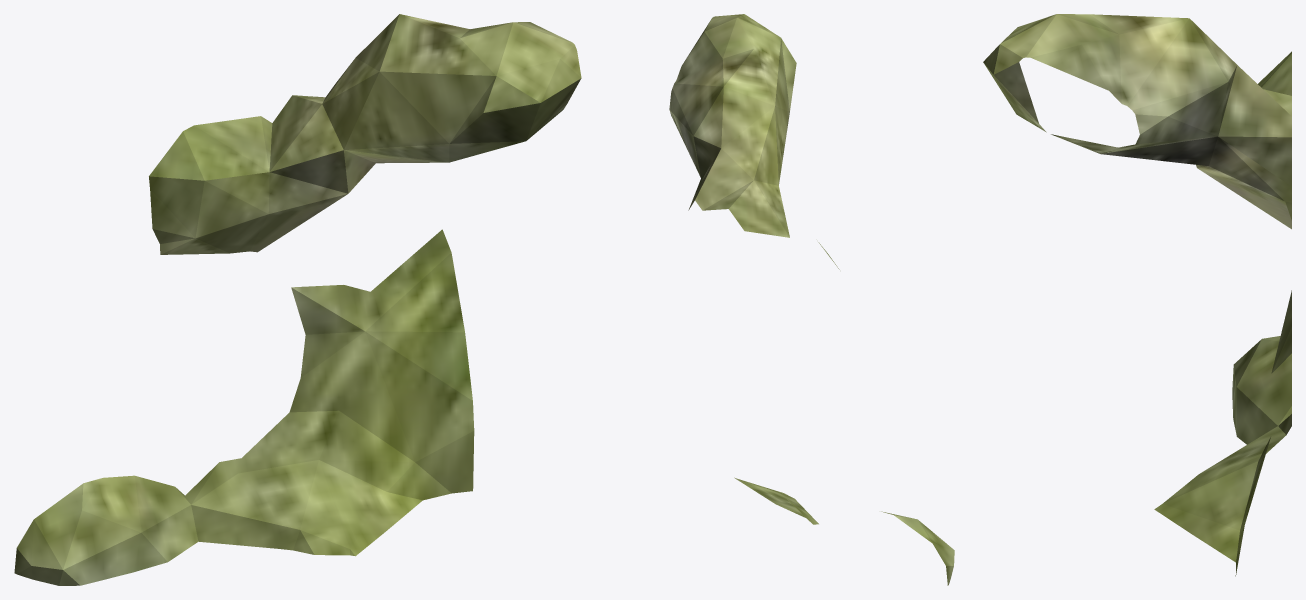
3 views of the same model, side by side, from view 1: azimuth 30°, elevation 25°; view 2: azimuth 150°, elevation 25°; view 3: azimuth 270°, elevation 25° (orthographic). The views are drawn at different scales.
Size of the model in its own units: 0.896 by 1.08 by 0.5523.
Materials: 1 (1 with a texture image).
